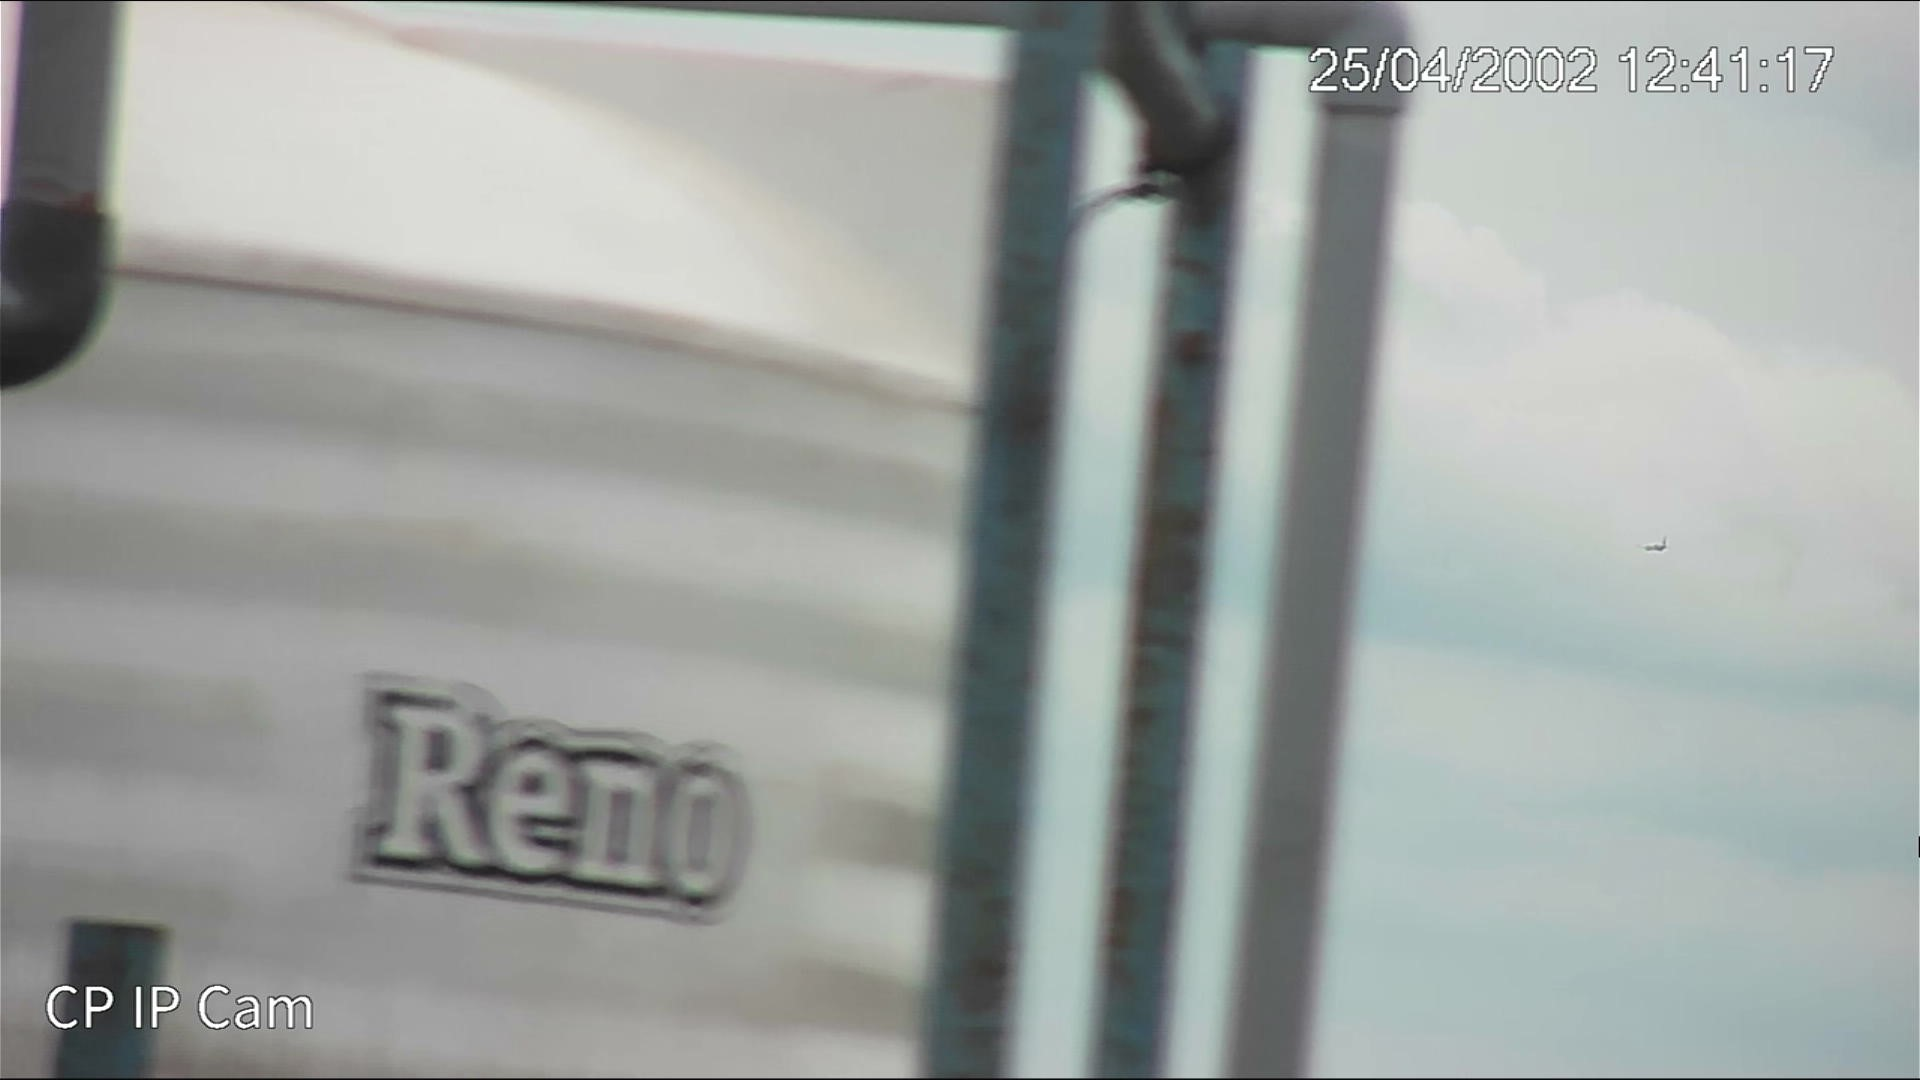SU_30: (1639, 534, 1669, 555)
